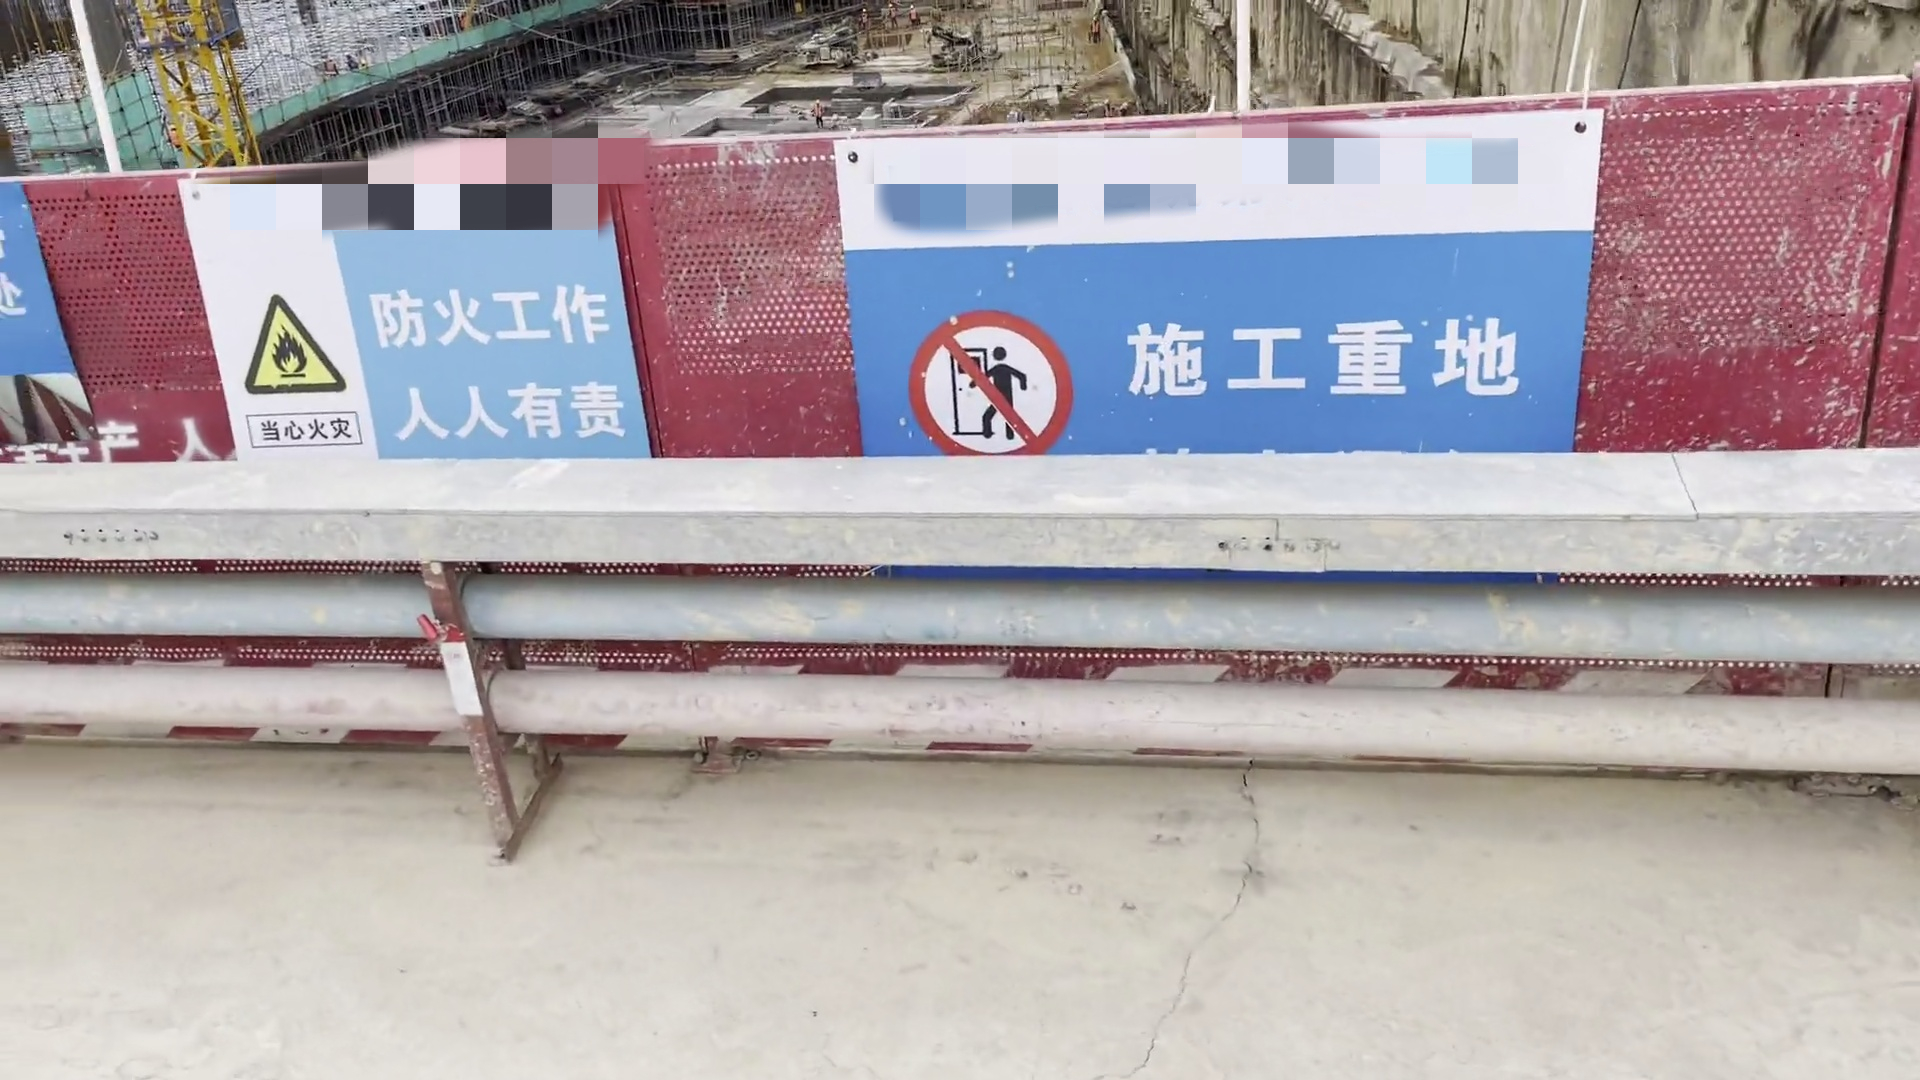brick: (879, 98, 924, 125), (826, 94, 865, 115)
fence: (1, 151, 1260, 478), (938, 74, 1920, 476)
helmet: (813, 99, 822, 105), (886, 3, 895, 8), (1092, 16, 1099, 21), (908, 4, 915, 9), (862, 8, 867, 13)
person: (1080, 15, 1105, 49), (906, 3, 927, 37), (812, 94, 830, 131), (884, 3, 900, 38), (858, 4, 874, 37)
slogan: (790, 80, 1635, 643), (131, 123, 692, 512), (1, 161, 149, 530)
vest: (1088, 21, 1101, 36), (885, 9, 898, 21), (909, 10, 921, 23), (812, 105, 823, 119), (860, 14, 869, 27)
